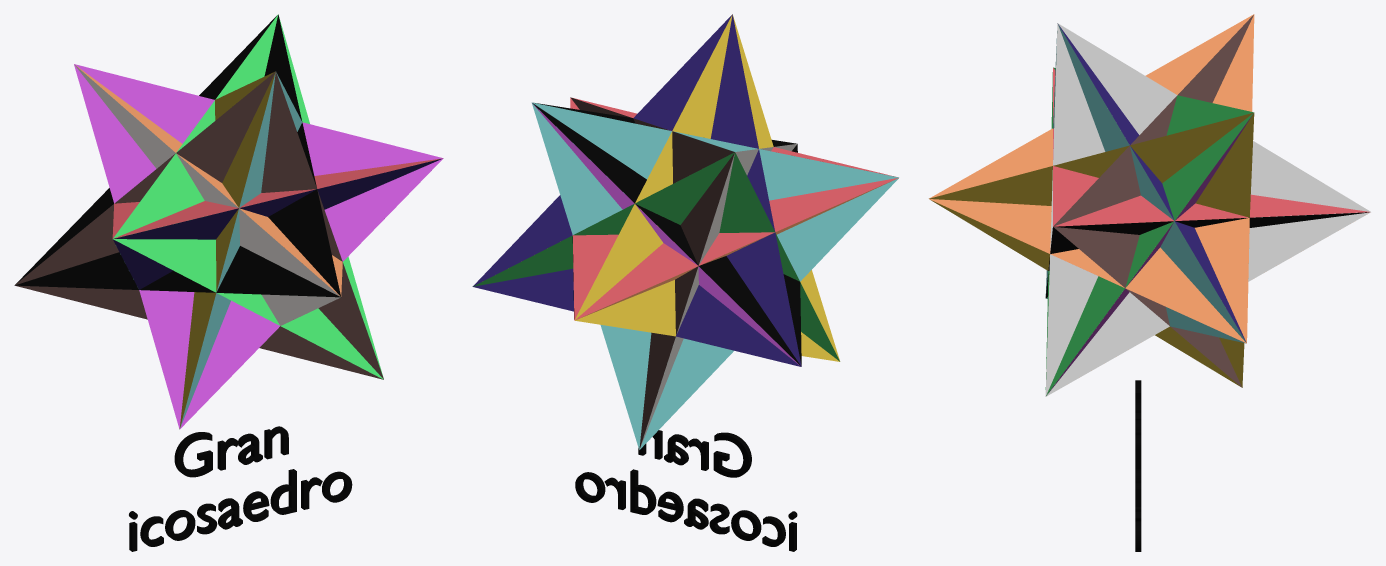
The model's file is gran_icosaedro.glb.
The picture shows the model from 3 angles, left to right: view 1: azimuth 30°, elevation 25°; view 2: azimuth 150°, elevation 25°; view 3: azimuth 270°, elevation 25°; orthographic projection.
Visible parts, largest first — view 1: Solid.043, Solid.042, Solid.033, Solid.028, Text.002, Solid.035, Solid.044, Solid.034, Solid.031, Solid.030, Solid.038; view 2: Solid.039, Solid.026, Solid.034, Solid.040, Solid.030, Text.002, Solid.041, Solid.033, Solid.029, Solid.035, Solid.037; view 3: Solid.036, Solid.038, Solid.027, Solid.041, Solid.028, Solid.030, Solid.031, Solid.026, Solid.032, Text.002, Solid.029.
Boxes of the visible parts, bbox=[...] form: Solid.043: bbox=[74, 64, 443, 429]; Solid.042: bbox=[15, 71, 383, 379]; Solid.033: bbox=[15, 14, 340, 297]; Solid.028: bbox=[113, 14, 383, 379]; Text.002: bbox=[129, 426, 352, 551]; Solid.035: bbox=[75, 65, 340, 325]; Solid.044: bbox=[113, 159, 441, 289]; Solid.034: bbox=[179, 72, 275, 428]; Solid.031: bbox=[180, 72, 302, 427]; Solid.030: bbox=[112, 158, 442, 238]; Solid.038: bbox=[76, 66, 342, 296]; Solid.039: bbox=[531, 102, 898, 449]; Solid.026: bbox=[472, 14, 801, 366]; Solid.034: bbox=[575, 14, 839, 361]; Solid.040: bbox=[473, 152, 839, 361]; Solid.030: bbox=[570, 97, 897, 320]; Text.002: bbox=[575, 430, 797, 551]; Solid.041: bbox=[570, 97, 734, 449]; Solid.033: bbox=[532, 103, 801, 365]; Solid.029: bbox=[532, 103, 799, 365]; Solid.035: bbox=[640, 144, 796, 447]; Solid.037: bbox=[579, 181, 891, 318]; Solid.036: bbox=[1045, 23, 1370, 396]; Solid.038: bbox=[929, 14, 1254, 343]; Solid.027: bbox=[929, 112, 1254, 387]; Solid.041: bbox=[1053, 15, 1253, 387]; Solid.028: bbox=[1045, 67, 1253, 395]; Solid.030: bbox=[1053, 68, 1369, 226]; Solid.031: bbox=[1045, 24, 1246, 343]; Solid.026: bbox=[1058, 24, 1245, 341]; Solid.032: bbox=[1045, 212, 1368, 297]; Text.002: bbox=[1135, 380, 1141, 551]; Solid.029: bbox=[1048, 115, 1252, 393].
Size of the model in its own units: 3.05 by 4.27 by 3.59.
